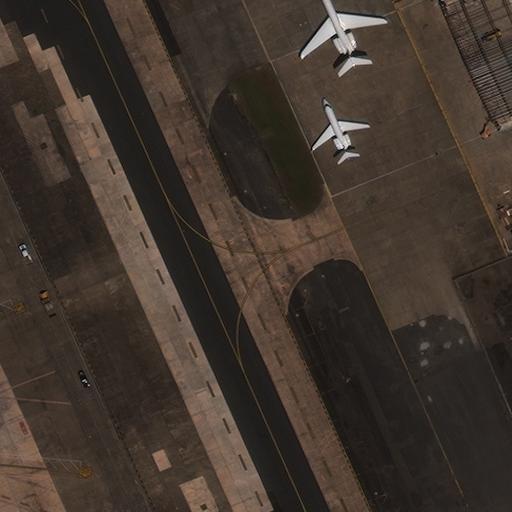Medium Civil Transport: (300, 0, 384, 67), (312, 99, 367, 158)
